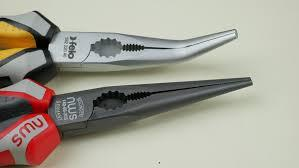pliers: (0, 76, 253, 167)
